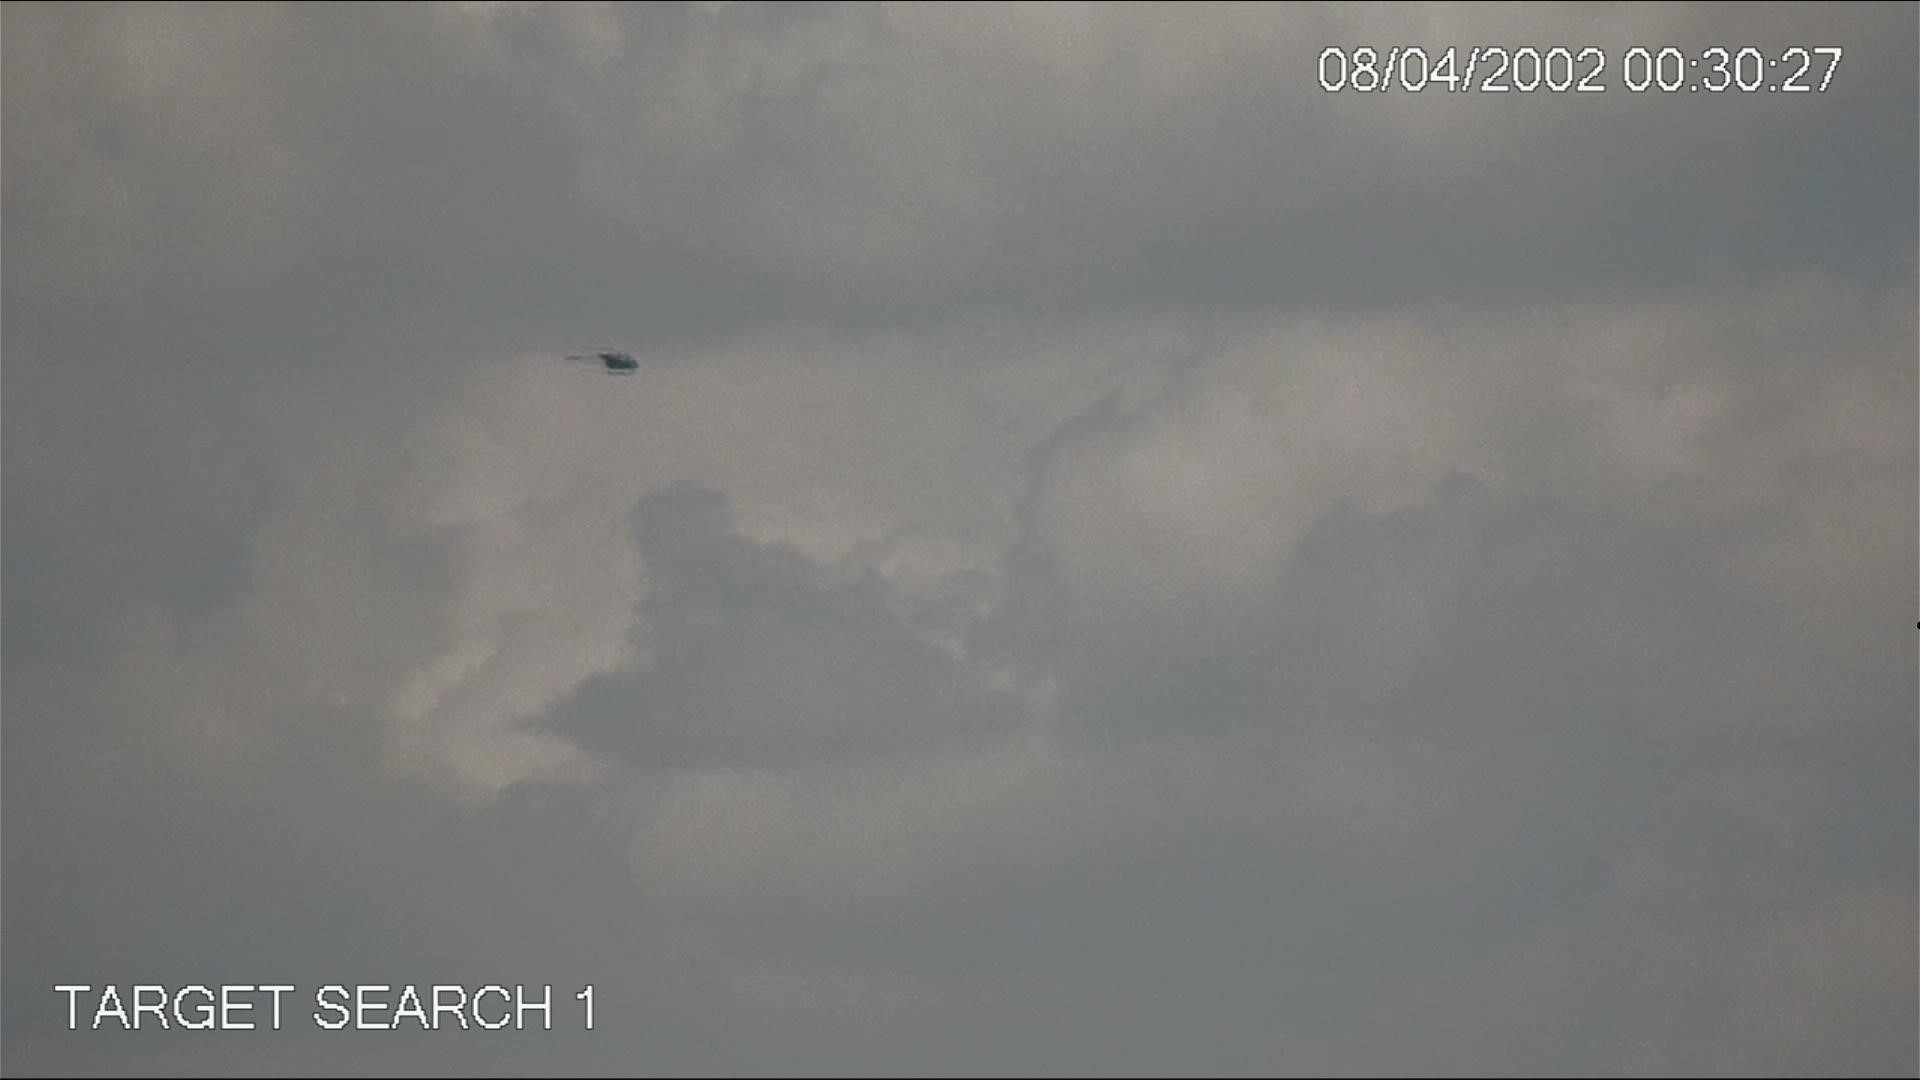SU_30: (555, 347, 644, 377)
